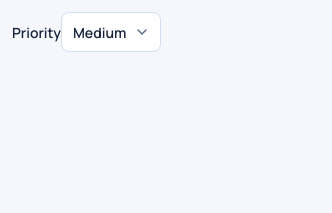
Test case: Select › opens on click, picks an option and closes
Click the dropdown named "Priority" at (111, 32), box [61,12,161,52]
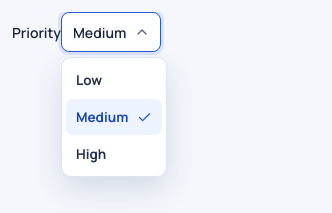
Click the option "High" at (91, 154), box [76,145,106,163]
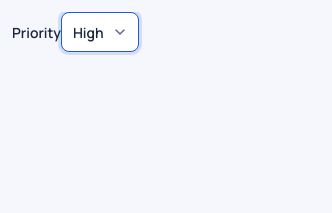
Check: the dropdown named "Priority" reads "High", box [61,12,139,52]
Check: the list is gone
